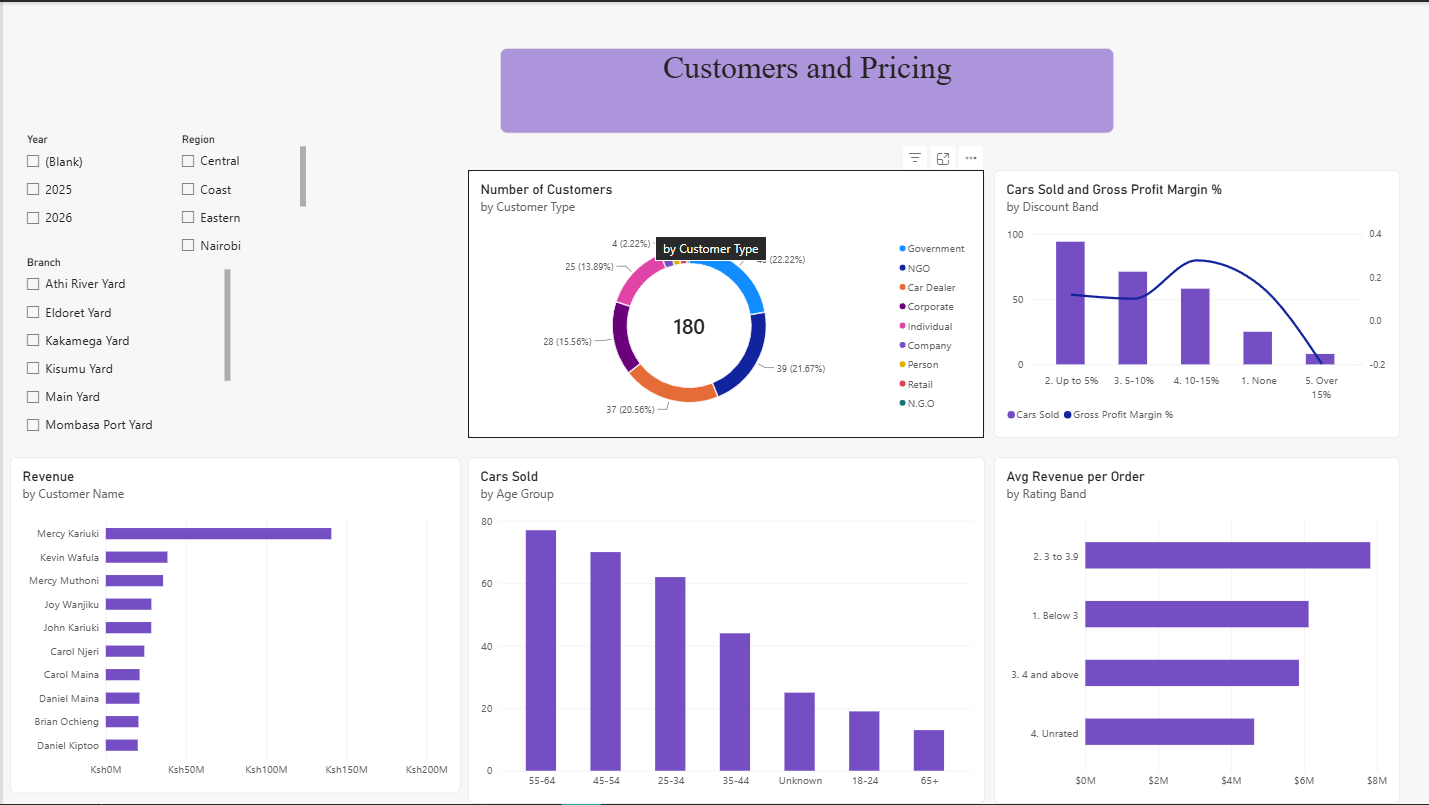

The page's visual inventory and layout, read from the dashboard file:
{"tool":"powerbi","page":{"name":"Page 4","canvas":[1920,1080],"ordinal":3},"visuals":[{"type":"donutChart","fields":{"Category":["Customer_dmTable.Customer Type"],"Y":["Sales_ftTable.Number of Customers"]},"box":[625.8,226.4,695.7,360.7],"z":0},{"type":"clusteredBarChart","fields":{"Category":["Sales_ftTable.Customer Name"],"Y":["Jcars_Measures.Revenue"]},"box":[9.2,612.9,607,453],"z":1000},{"type":"clusteredColumnChart","fields":{"Category":["Sales_ftTable.Age Group"],"Y":["Jcars_Measures.Cars Sold"]},"box":[625.8,612.9,695.7,467.5],"z":1001},{"type":"lineClusteredColumnComboChart","fields":{"Category":["Sales_ftTable.Discount Band"],"Y":["Jcars_Measures.Cars Sold"],"Y2":["Jcars_Measures.Gross Profit Margin %"]},"box":[1334.4,226.4,546.6,360.7],"z":1002},{"type":"clusteredBarChart","fields":{"Category":["Sales_ftTable.Rating Band"],"Y":["Jcars_Measures.Avg Revenue per Order"]},"box":[1334.4,612.9,546.6,467.5],"z":1003},{"type":"textbox","box":[669,61.7,827.4,115.3],"z":1004},{"type":"slicer","fields":{"Values":["Date_dmTable.Year"]},"box":[24.7,177,208,165.6],"z":1005},{"type":"slicer","fields":{"Values":["Region_dmTable.Region"]},"box":[232.6,177,174.8,165.6],"z":1006},{"type":"slicer","fields":{"Values":["Branch_dmTable.Branch"]},"box":[24.7,341.7,282,244.9],"z":1007}]}

Visuals, with their boxes in screenshot pixels (x1, y1, x2, y2), scaled from the page's 1920x1080 canvas onto the 1429x805 screenshot:
donutChart - Customer_dmTable.Customer Type x Sales_ftTable.Number of Customers: <region>466, 169, 984, 438</region>
clusteredBarChart - Sales_ftTable.Customer Name x Jcars_Measures.Revenue: <region>7, 457, 459, 794</region>
clusteredColumnChart - Sales_ftTable.Age Group x Jcars_Measures.Cars Sold: <region>466, 457, 984, 804</region>
lineClusteredColumnComboChart - Sales_ftTable.Discount Band x Jcars_Measures.Cars Sold: <region>993, 169, 1400, 438</region>
clusteredBarChart - Sales_ftTable.Rating Band x Jcars_Measures.Avg Revenue per Order: <region>993, 457, 1400, 804</region>
textbox: <region>498, 46, 1114, 132</region>
slicer - Date_dmTable.Year: <region>18, 132, 173, 255</region>
slicer - Region_dmTable.Region: <region>173, 132, 303, 255</region>
slicer - Branch_dmTable.Branch: <region>18, 255, 228, 437</region>
